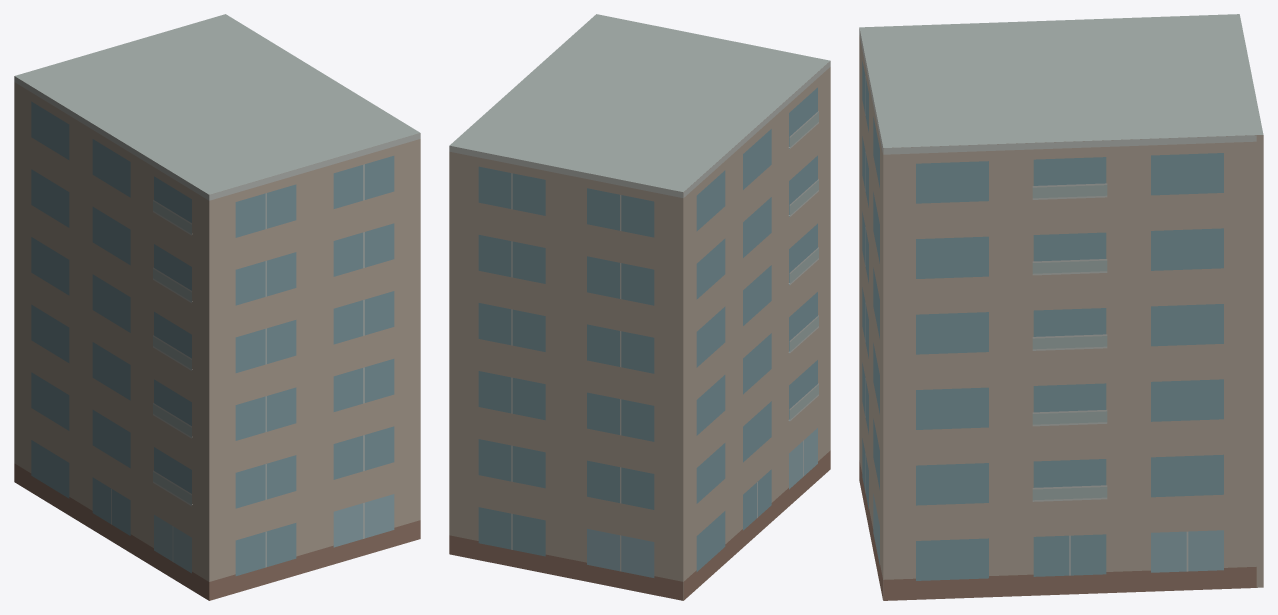
The model's file is survey-upis-33023445.glb.
3 views of the same model, side by side, from view 1: azimuth 30°, elevation 25°; view 2: azimuth 150°, elevation 25°; view 3: azimuth 270°, elevation 25° (orthographic). The views are drawn at different scales.
Visible parts, largest first — view 1: survey-upis-33023445.tmp; view 2: survey-upis-33023445.tmp; view 3: survey-upis-33023445.tmp.
Boxes of the visible parts, bbox=[...] form: survey-upis-33023445.tmp: bbox=[14, 14, 420, 600]; survey-upis-33023445.tmp: bbox=[449, 14, 830, 600]; survey-upis-33023445.tmp: bbox=[859, 14, 1263, 600].
Size of the model in its own units: 10.55 by 16.6 by 13.44.
